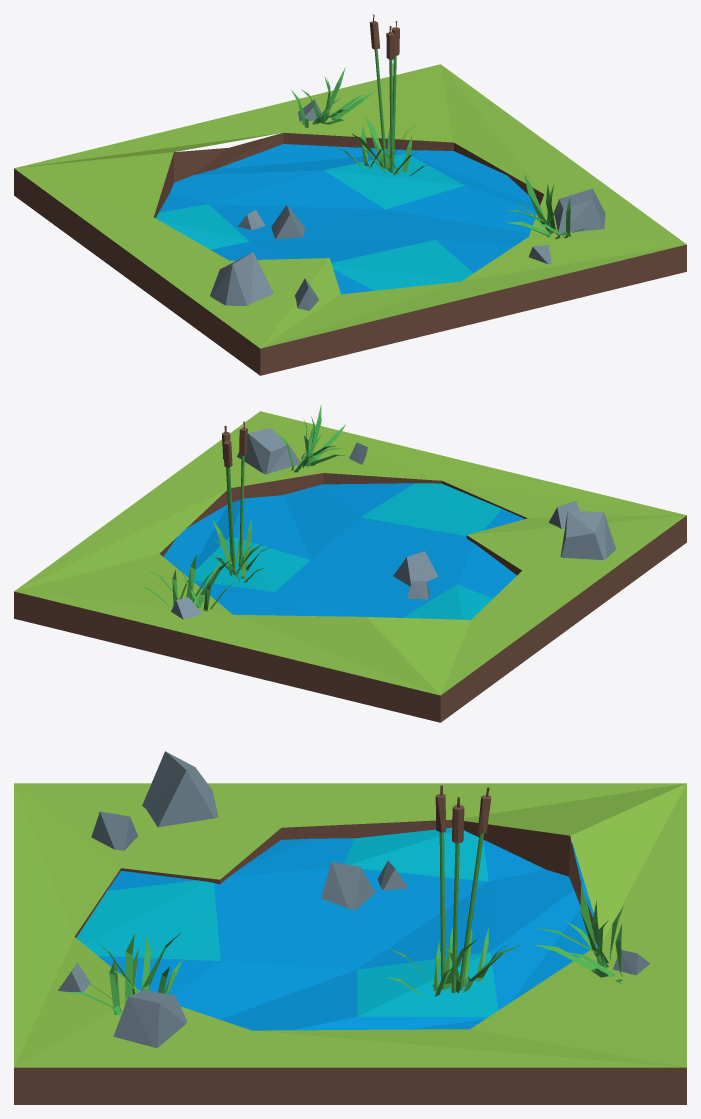
File: pond.glb
3 views of the same model, one above another, from view 1: azimuth 30°, elevation 25°; view 2: azimuth 150°, elevation 25°; view 3: azimuth 270°, elevation 25° (orthographic). The views are drawn at different scales.
Parts seen in each view (by area): view 1: pond_01_Cube.010; view 2: pond_01_Cube.010; view 3: pond_01_Cube.010.
Boxes of the visible parts, <box> form: pond_01_Cube.010: <box>14,14,686,375</box>; pond_01_Cube.010: <box>14,404,686,722</box>; pond_01_Cube.010: <box>14,751,686,1104</box>.
Bounding box in the file's own units: 200 × 73.87 × 200.
